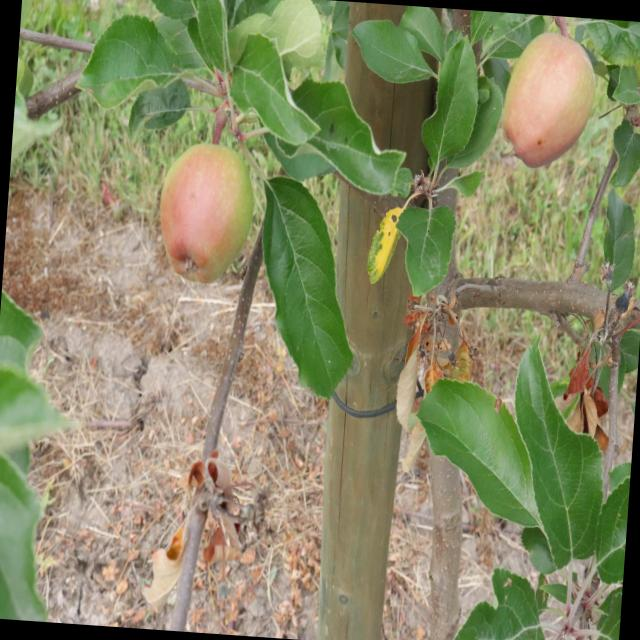-FireBlight-: (158, 442, 271, 566), (396, 291, 488, 417), (544, 299, 619, 448)
